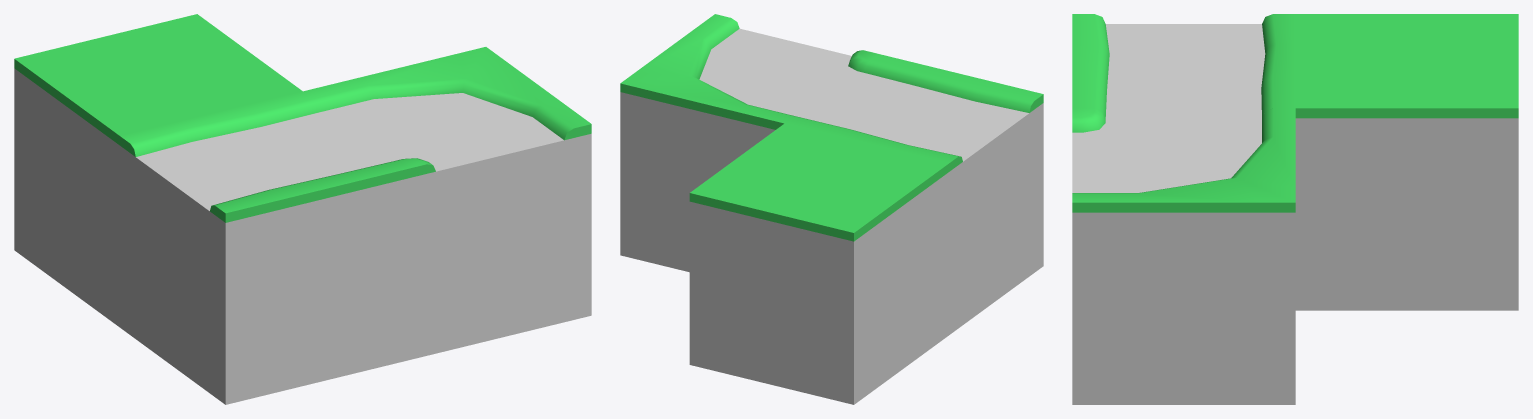
The model's file is TowerDefense_PathSections.fbx.
3 views of the same model, side by side, from view 1: azimuth 30°, elevation 25°; view 2: azimuth 150°, elevation 25°; view 3: azimuth 270°, elevation 25° (orthographic). The views are drawn at different scales.
Visible parts, largest first — view 1: Path_Straight, Path_Corner, Tile; view 2: Tile, Path_Corner, Path_Straight; view 3: Tile, Path_Corner, Path_Straight.
Part boxes in pixels (left/top/right/bottom): Path_Straight: left=120, top=91, right=408, bottom=404; Path_Corner: left=303, top=47, right=591, bottom=359; Tile: left=14, top=14, right=302, bottom=327; Tile: left=689, top=123, right=948, bottom=404; Path_Corner: left=620, top=14, right=878, bottom=272; Path_Straight: left=785, top=54, right=1043, bottom=334; Tile: left=1295, top=14, right=1518, bottom=310; Path_Corner: left=1072, top=108, right=1295, bottom=404; Path_Straight: left=1072, top=14, right=1295, bottom=118.
Size of the model in its own units: 400 by 200 by 400.
